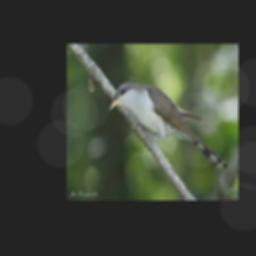Cuckoo: (109, 81, 227, 169)
